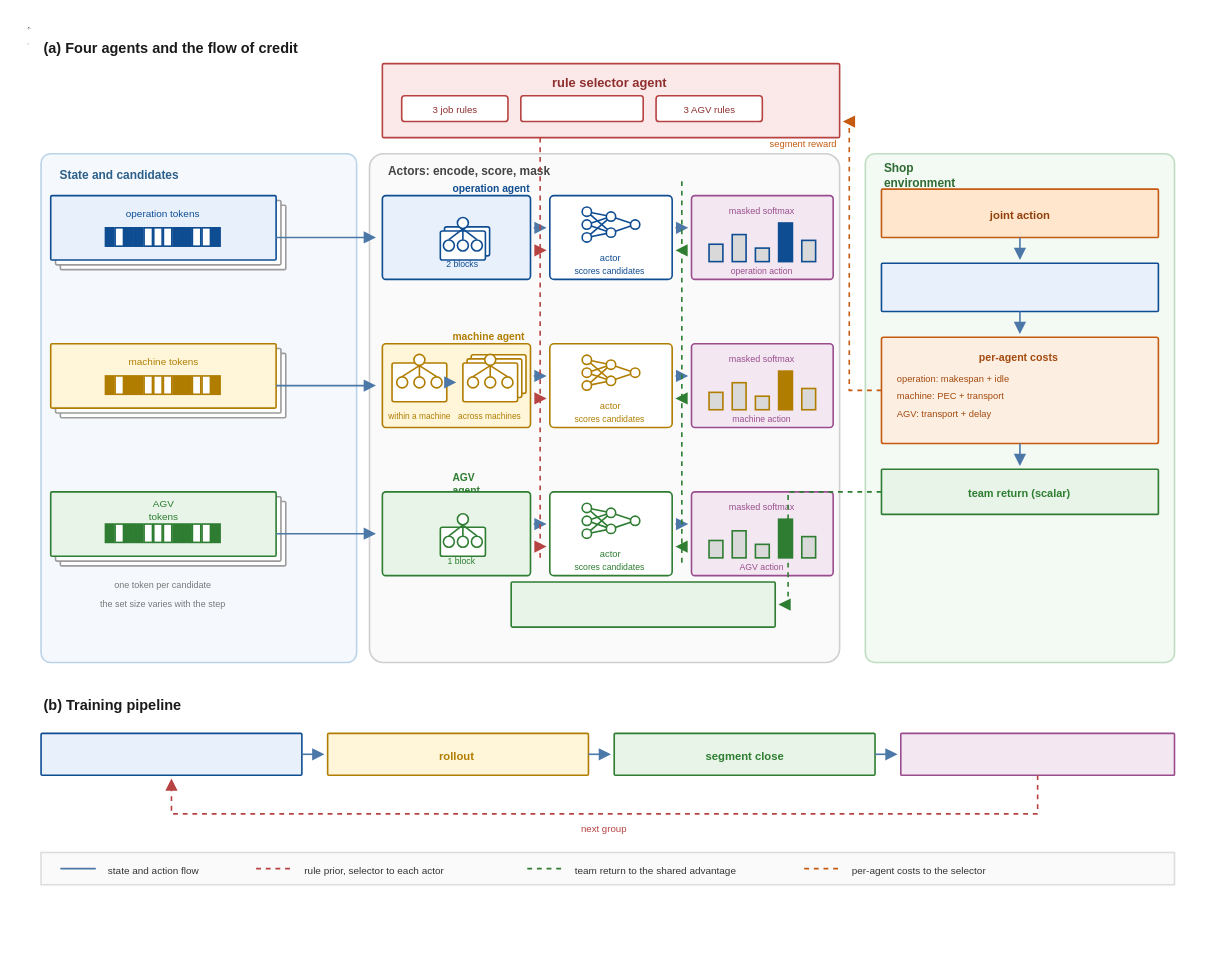
This 1216x974 diagram has some shape labels left out. Each missing label, with the centre of its shape:
4 machine rules: pixel 581 108
group sampling: pixel 170 753
group-relative advantage: pixel 642 603
shop update: pixel 1019 287
update: pixel 1036 753
